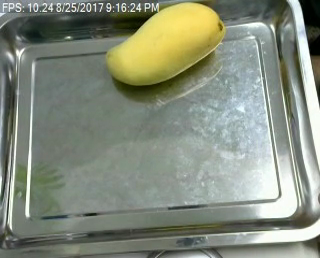Mango: (104, 2, 228, 89)
